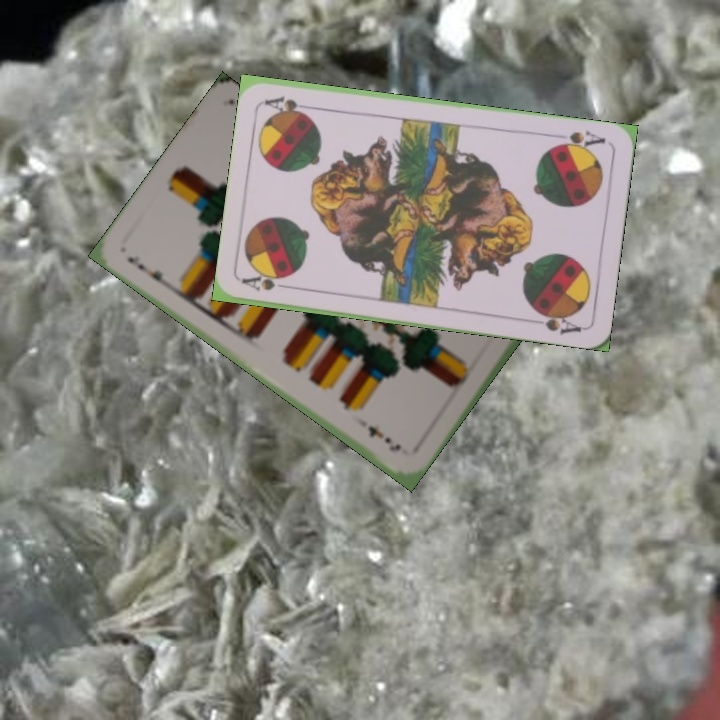E7: (123, 251, 171, 291)
SA: (549, 127, 608, 154), (239, 271, 298, 294)
